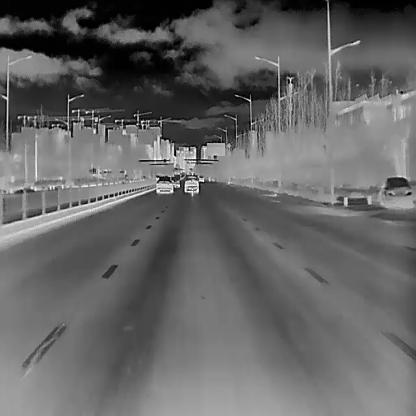car: (376, 175, 412, 209), (156, 175, 174, 193), (184, 175, 198, 193), (169, 175, 180, 188), (197, 173, 203, 181)
